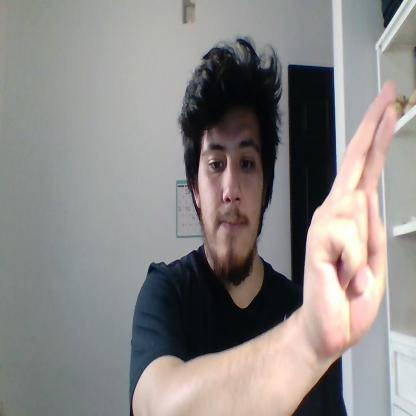R: (304, 82, 398, 354)
